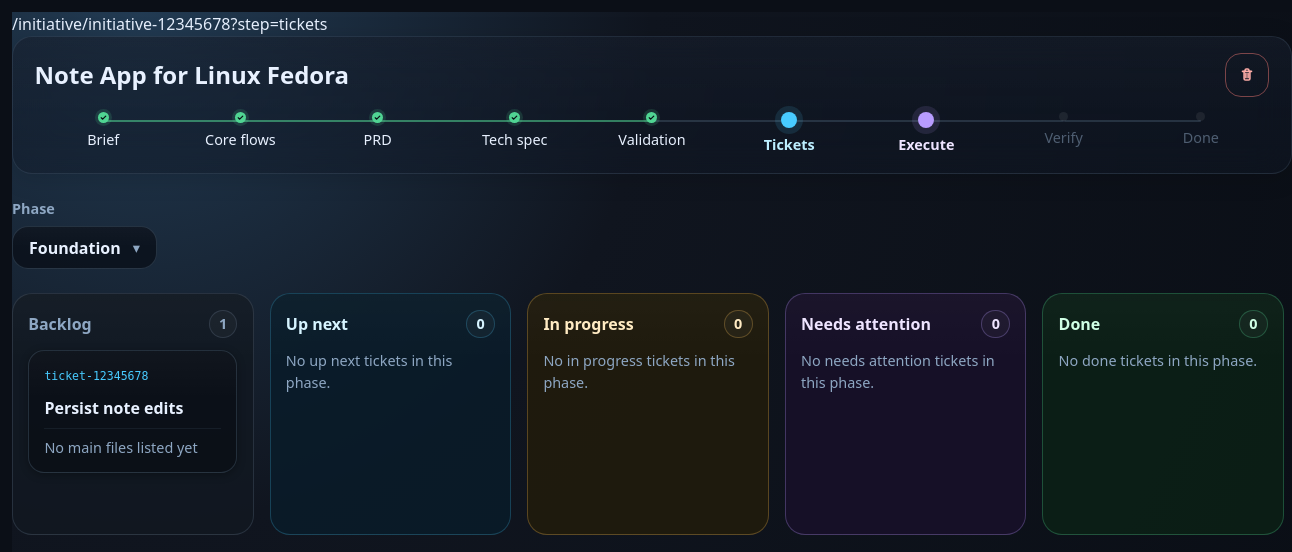
InitiativeRouteView planning surfaces › opens validation when the validation pipeline node is clicked after tickets exist
Step 1. Click the button "Validation" → (652, 131), box [609,112,695,150]
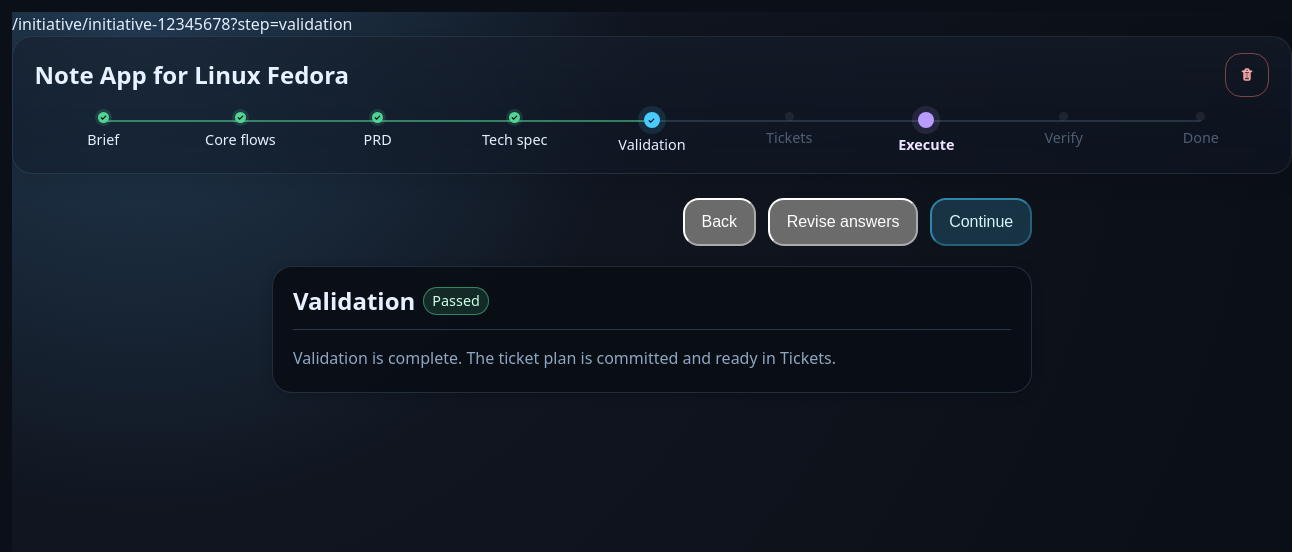
Expected: the text "Validation is complete. The ticket plan is committed and ready in Tickets." is shown, [293,347,836,369]
Expected: the button "Revise answers" is shown, [768,198,918,246]
Expected: the button "Continue" is shown, [930,198,1032,246]
